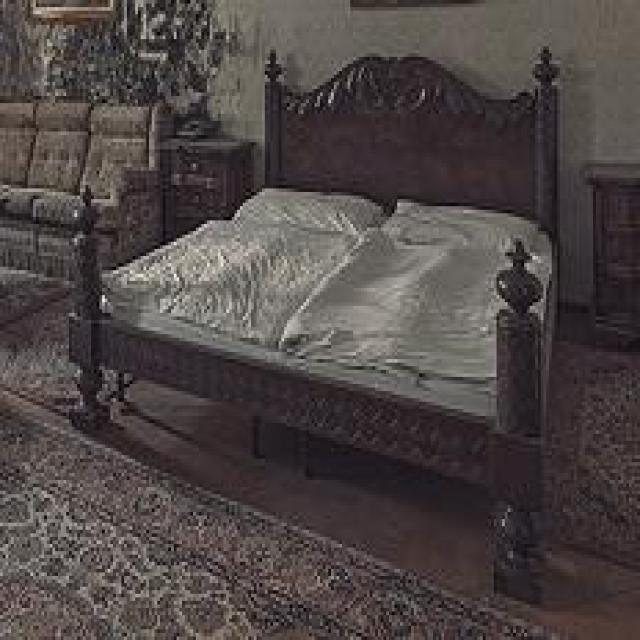bed: (63, 43, 563, 601)
sofa: (0, 92, 171, 281)
